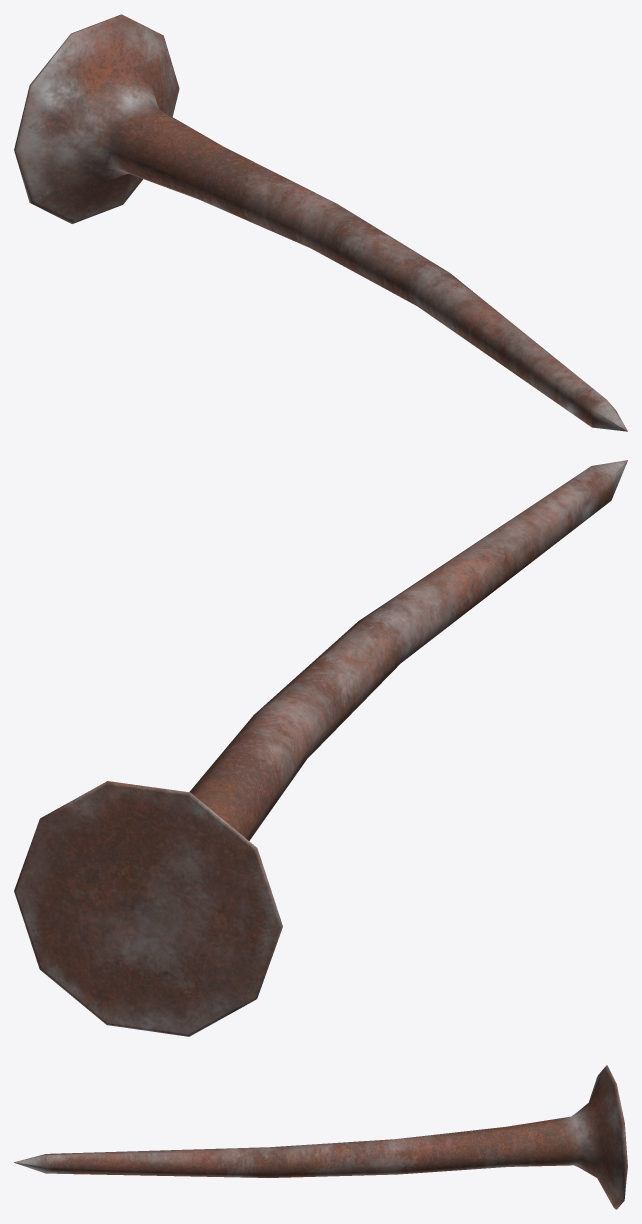
3 views of the same model, one above another, from view 1: azimuth 30°, elevation 25°; view 2: azimuth 150°, elevation 25°; view 3: azimuth 270°, elevation 25° (orthographic). The views are drawn at different scales.
Visible parts, largest first — view 1: Nail2; view 2: Nail2; view 3: Nail2.
Part boxes in pixels (<box>): Nail2: <box>14,14,627,431</box>; Nail2: <box>14,460,627,1036</box>; Nail2: <box>14,1065,627,1209</box>.
Size of the model in its own units: 0.9093 by 0.8599 by 3.81.
1 material, 1 textured.
